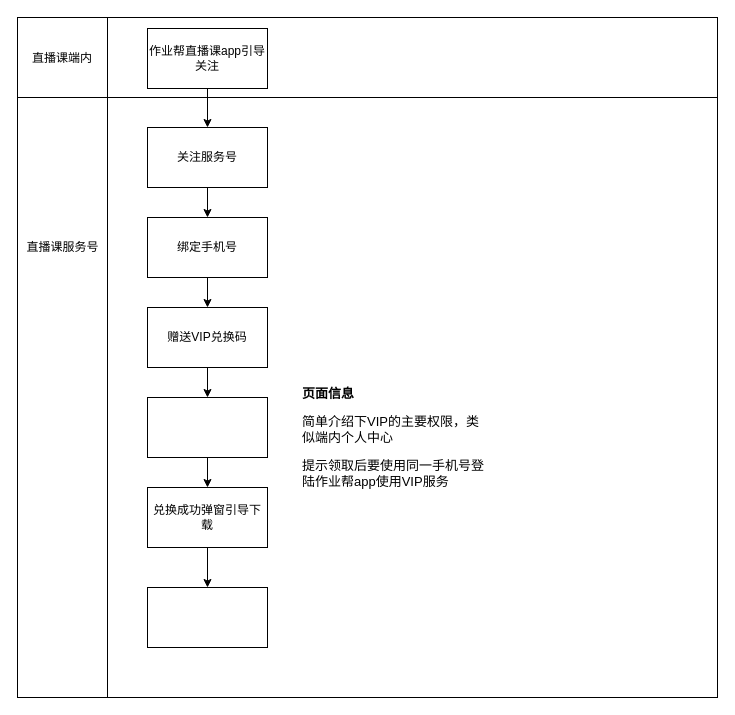
Image size: 735x715. Some labels were removed from this diagram. Here are the shapes that lost their labels. From the top down, the centre of each, then its label:
the point at 207,427: 兑换码页面：输入兑换码兑换
the point at 207,617: 3/5s没关闭直接跳转下载（或者落地页再引导下载？
